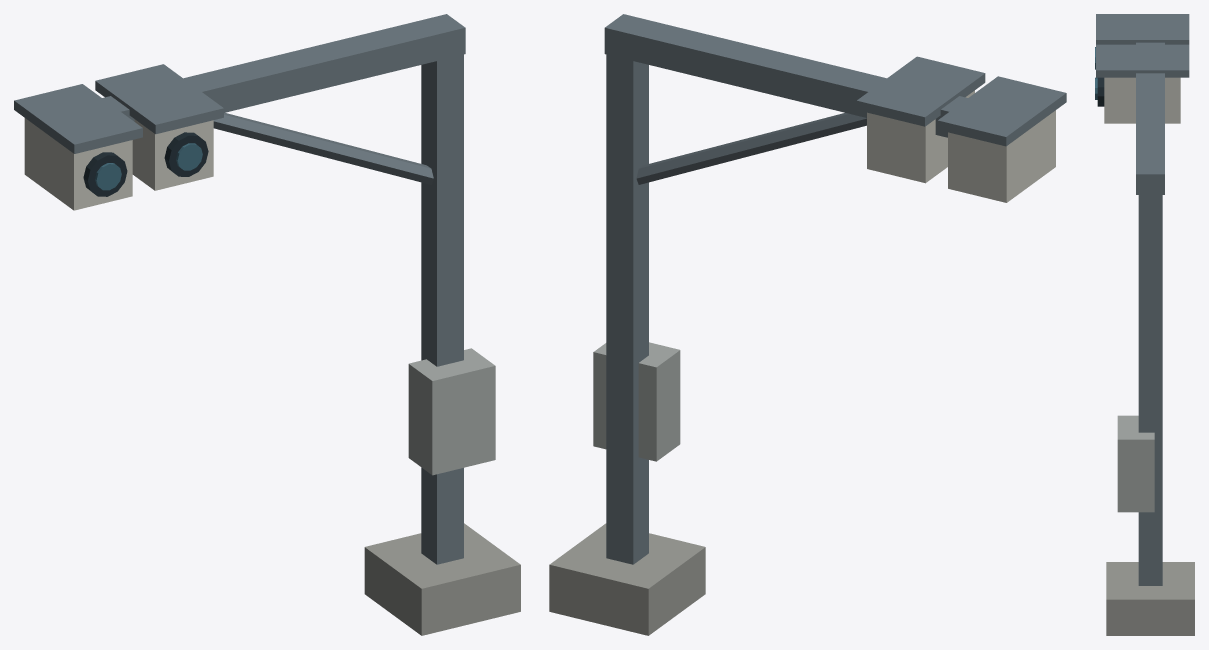
The picture shows the model from 3 angles, left to right: view 1: azimuth 30°, elevation 25°; view 2: azimuth 150°, elevation 25°; view 3: azimuth 270°, elevation 25°; orthographic projection. The views are drawn at different scales.
Visible parts, largest first — view 1: Visual; view 2: Visual; view 3: Visual.
Part boxes in pixels (x1,y1,x2,y2): Visual: [14, 14, 520, 635]; Visual: [549, 14, 1066, 635]; Visual: [1095, 14, 1194, 635].
Bounding box in the file's own units: 5.03 × 6.18 × 1.24.
